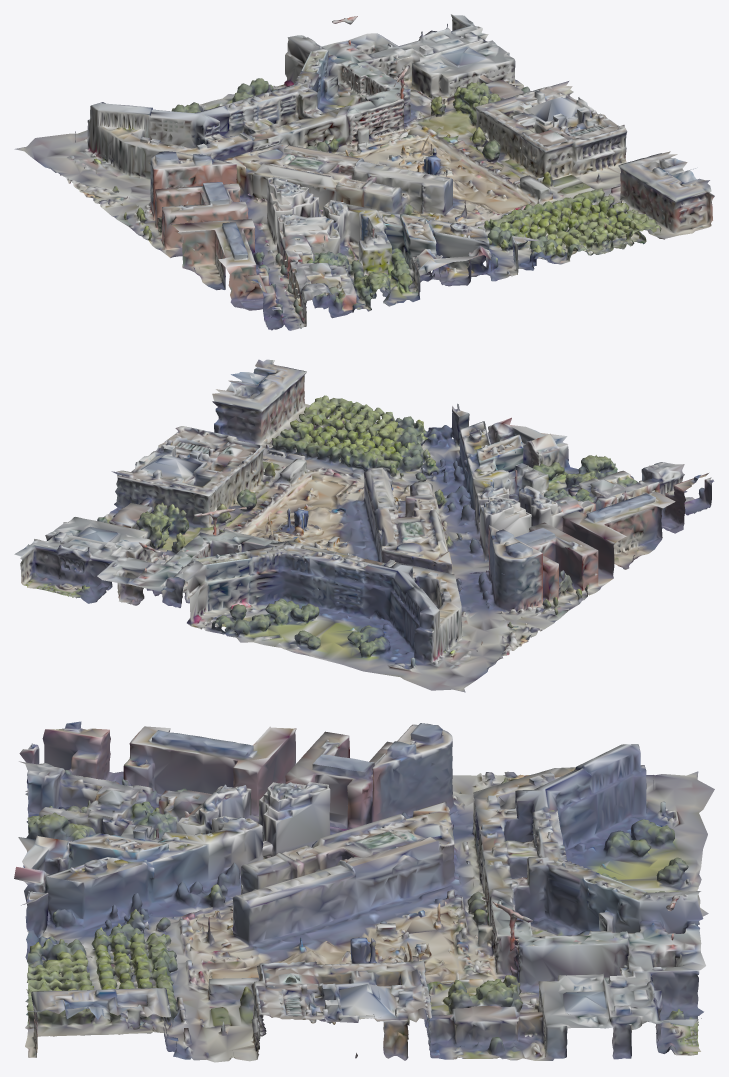
File: tile-3898_58185.glb
The picture shows the model from 3 angles, top to bottom: view 1: azimuth 30°, elevation 25°; view 2: azimuth 150°, elevation 25°; view 3: azimuth 270°, elevation 25°; orthographic projection. The views are drawn at different scales.
Parts seen in each view (by area): view 1: world; view 2: world; view 3: world.
Part boxes in pixels (x1=…): world: x1=14, y1=14, x2=714, y2=330; world: x1=14, y1=359, x2=714, y2=692; world: x1=14, y1=721, x2=714, y2=1062.
Size of the model in its own units: 378 by 53.66 by 377.
